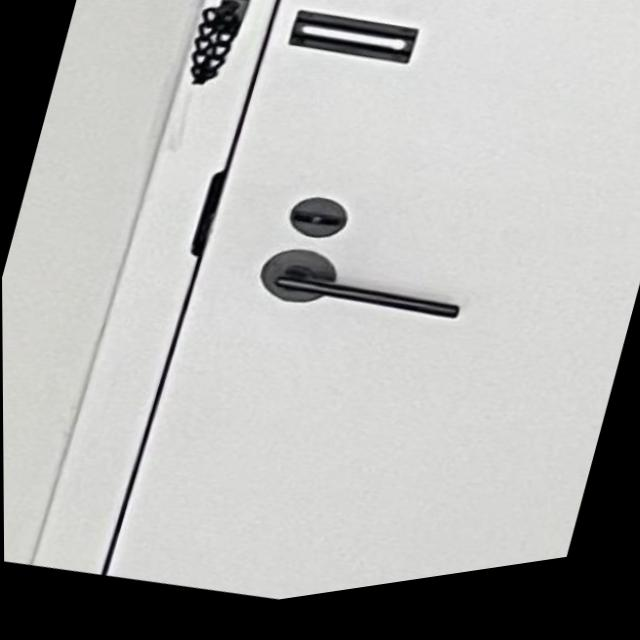door_handle: (237, 216, 489, 376)
